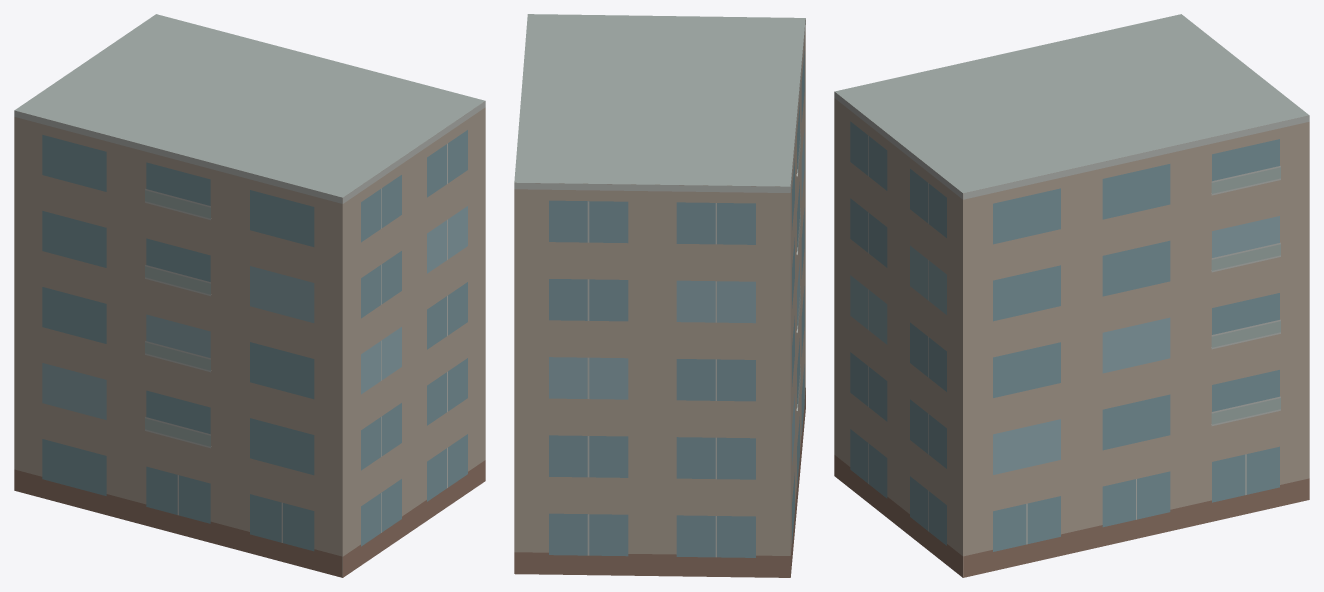
Rendered from survey-upis-32882525.glb.
3 views of the same model, side by side, from view 1: azimuth 30°, elevation 25°; view 2: azimuth 150°, elevation 25°; view 3: azimuth 270°, elevation 25° (orthographic). The views are drawn at different scales.
Visible parts, largest first — view 1: survey-upis-32882525.tmp; view 2: survey-upis-32882525.tmp; view 3: survey-upis-32882525.tmp.
Part boxes in pixels (bbox=[...]): survey-upis-32882525.tmp: bbox=[14, 14, 485, 577]; survey-upis-32882525.tmp: bbox=[514, 14, 805, 577]; survey-upis-32882525.tmp: bbox=[834, 14, 1309, 577].
Size of the model in its own units: 14.61 by 14.6 by 16.36.
